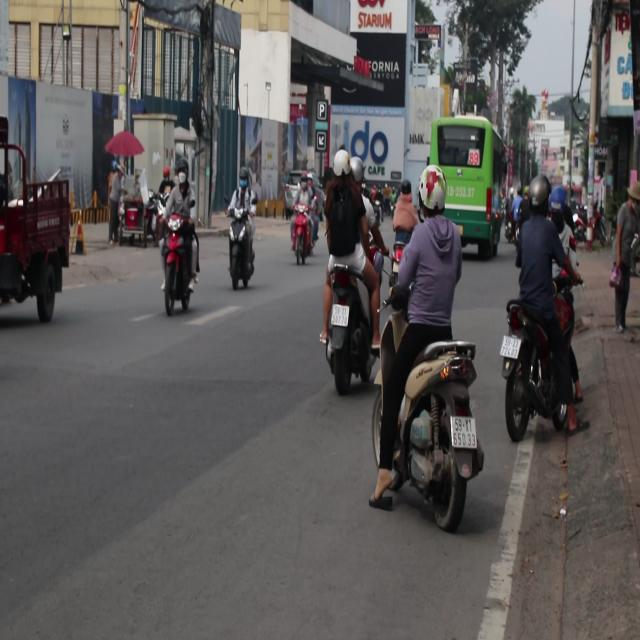bus: (426, 116, 510, 259)
car: (280, 162, 319, 221)
motorbike: (391, 338, 486, 530), (492, 300, 606, 450), (322, 246, 380, 406), (154, 201, 200, 316), (225, 209, 257, 303), (292, 212, 318, 270)
